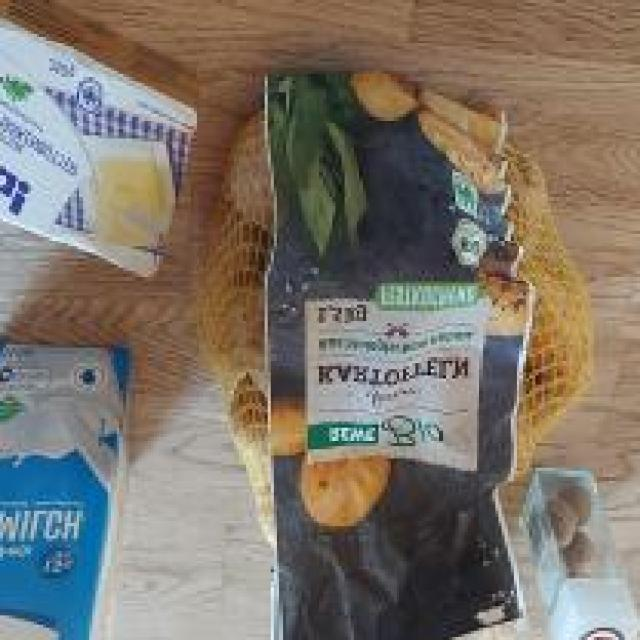butter: (0, 0, 203, 280)
milk: (0, 344, 136, 640)
